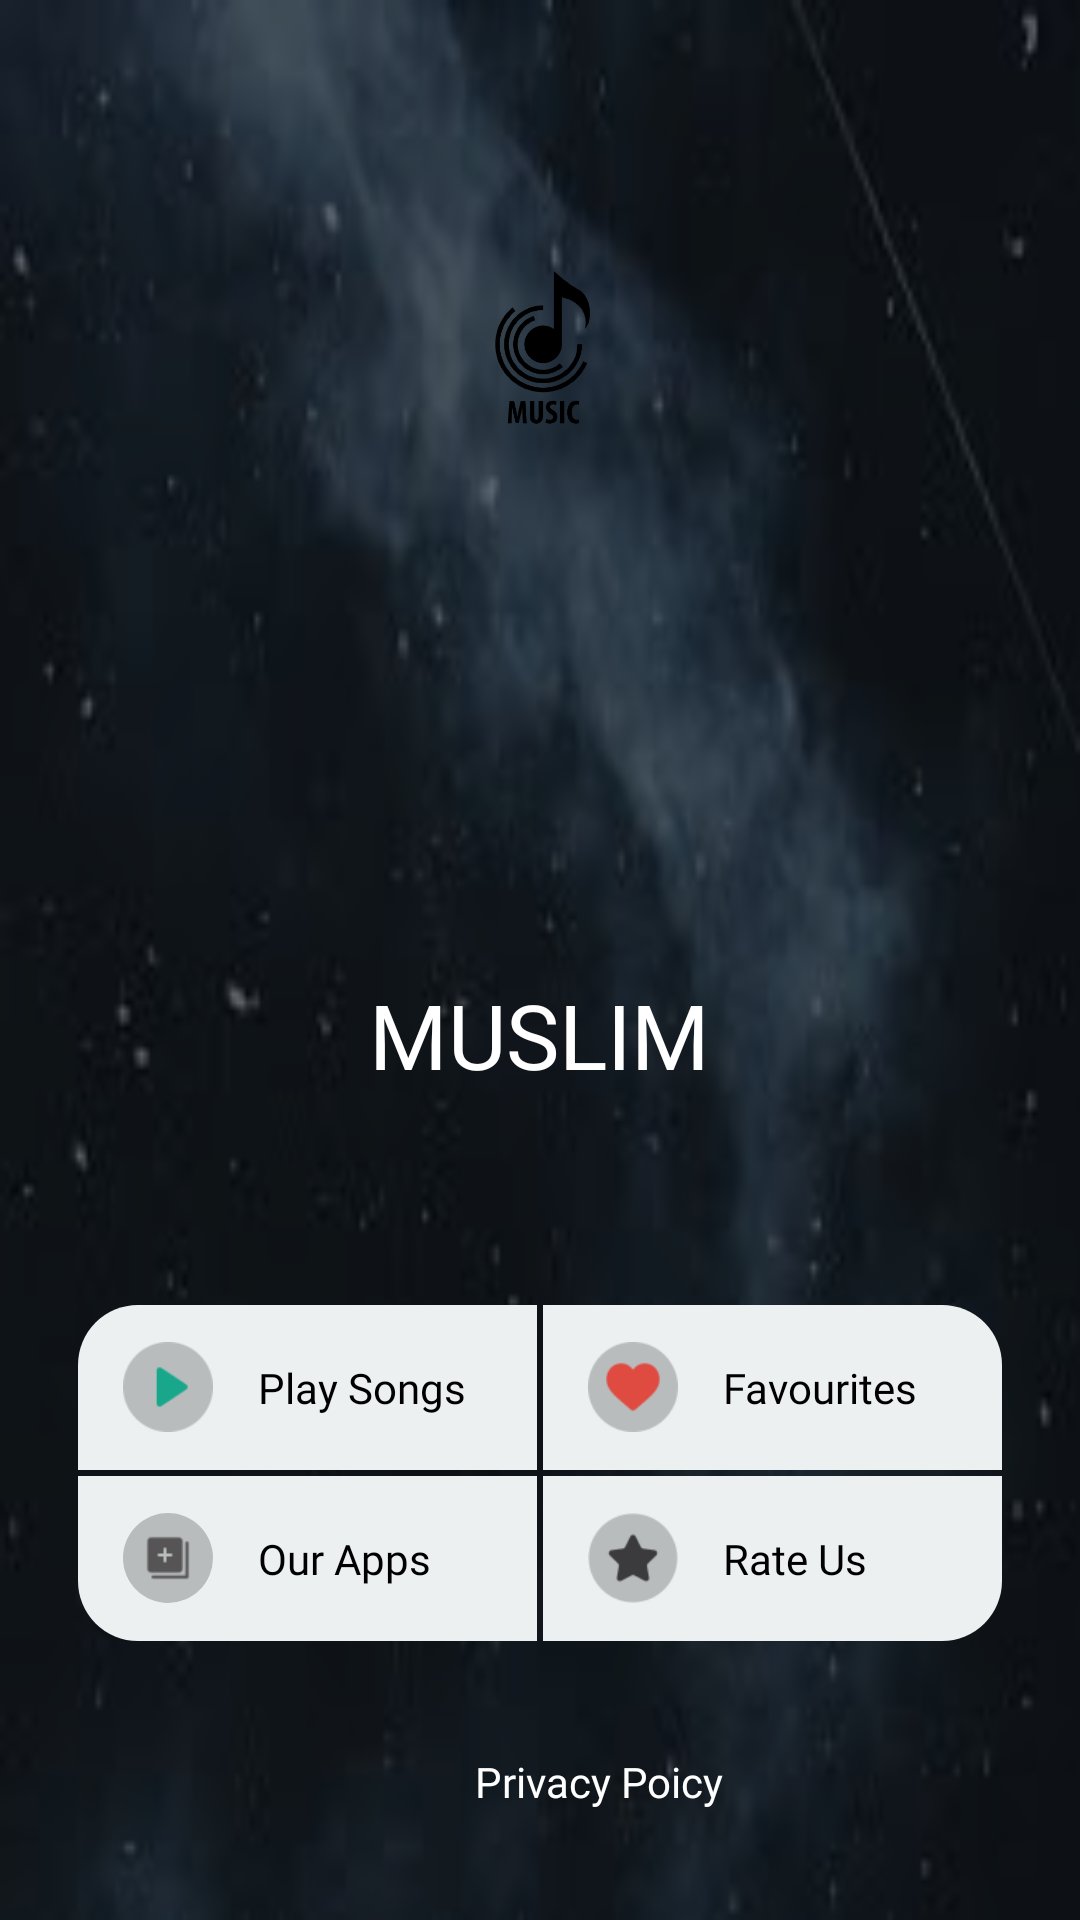

Named icons in this screenshot (1080px×1920px) and their centers, point (x, y):
love: point (633, 1387)
